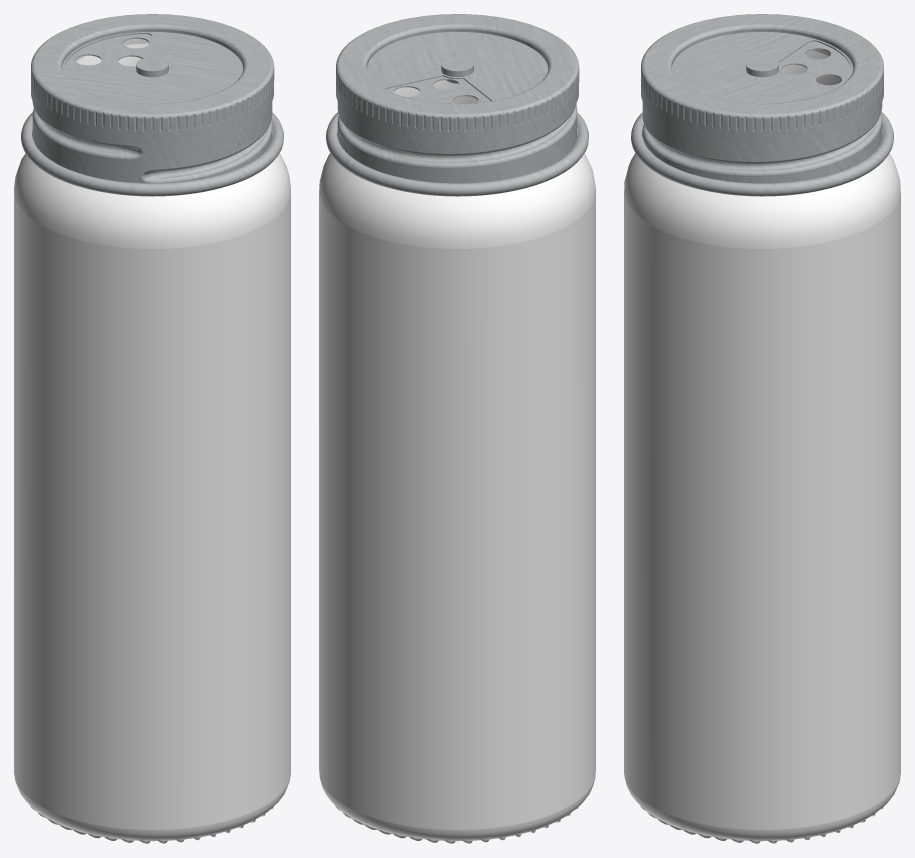
Rendered from Citronhaj00553227.glb.
3 renders of one model, left to right at view 1: azimuth 30°, elevation 25°; view 2: azimuth 150°, elevation 25°; view 3: azimuth 270°, elevation 25°, orthographic.
Visible parts, largest first — view 1: 2, 1; view 2: 2, 1; view 3: 2, 1.
Part boxes in pixels (left/top/right/bottom): 2: left=14, top=38, right=290, bottom=843; 1: left=21, top=14, right=283, bottom=196; 2: left=319, top=80, right=595, bottom=843; 1: left=326, top=14, right=588, bottom=196; 2: left=624, top=49, right=900, bottom=843; 1: left=631, top=14, right=893, bottom=196.
Size of the model in its own units: 0.042 by 0.1219 by 0.042.
2 materials, 2 textured.
